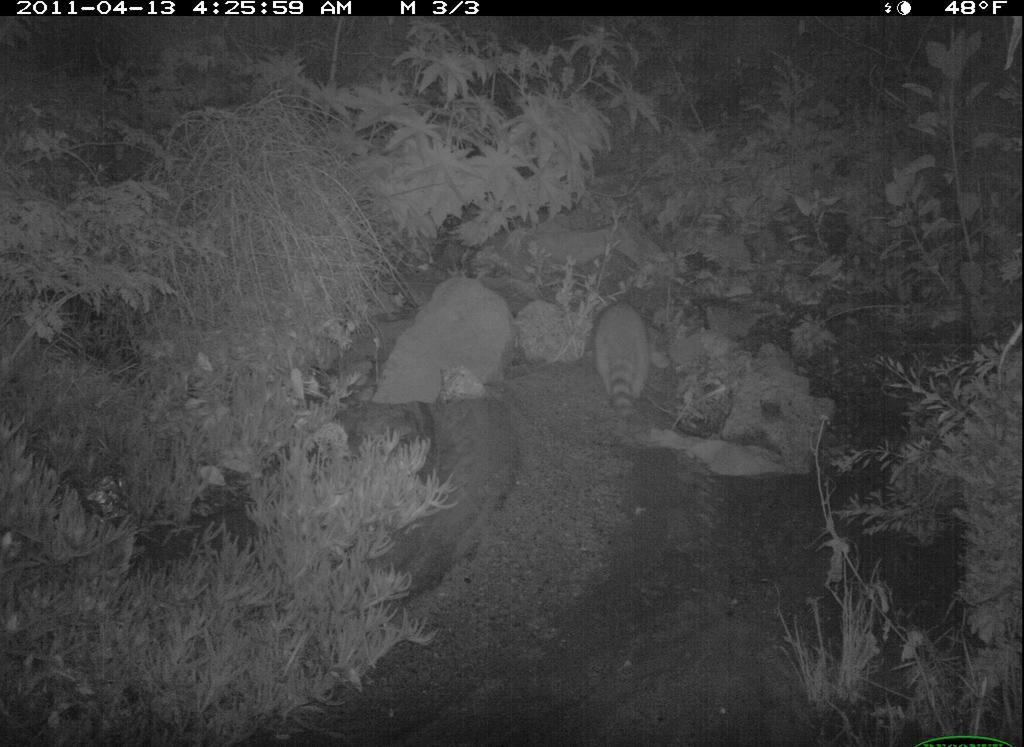raccoon: (588, 295, 660, 429)
